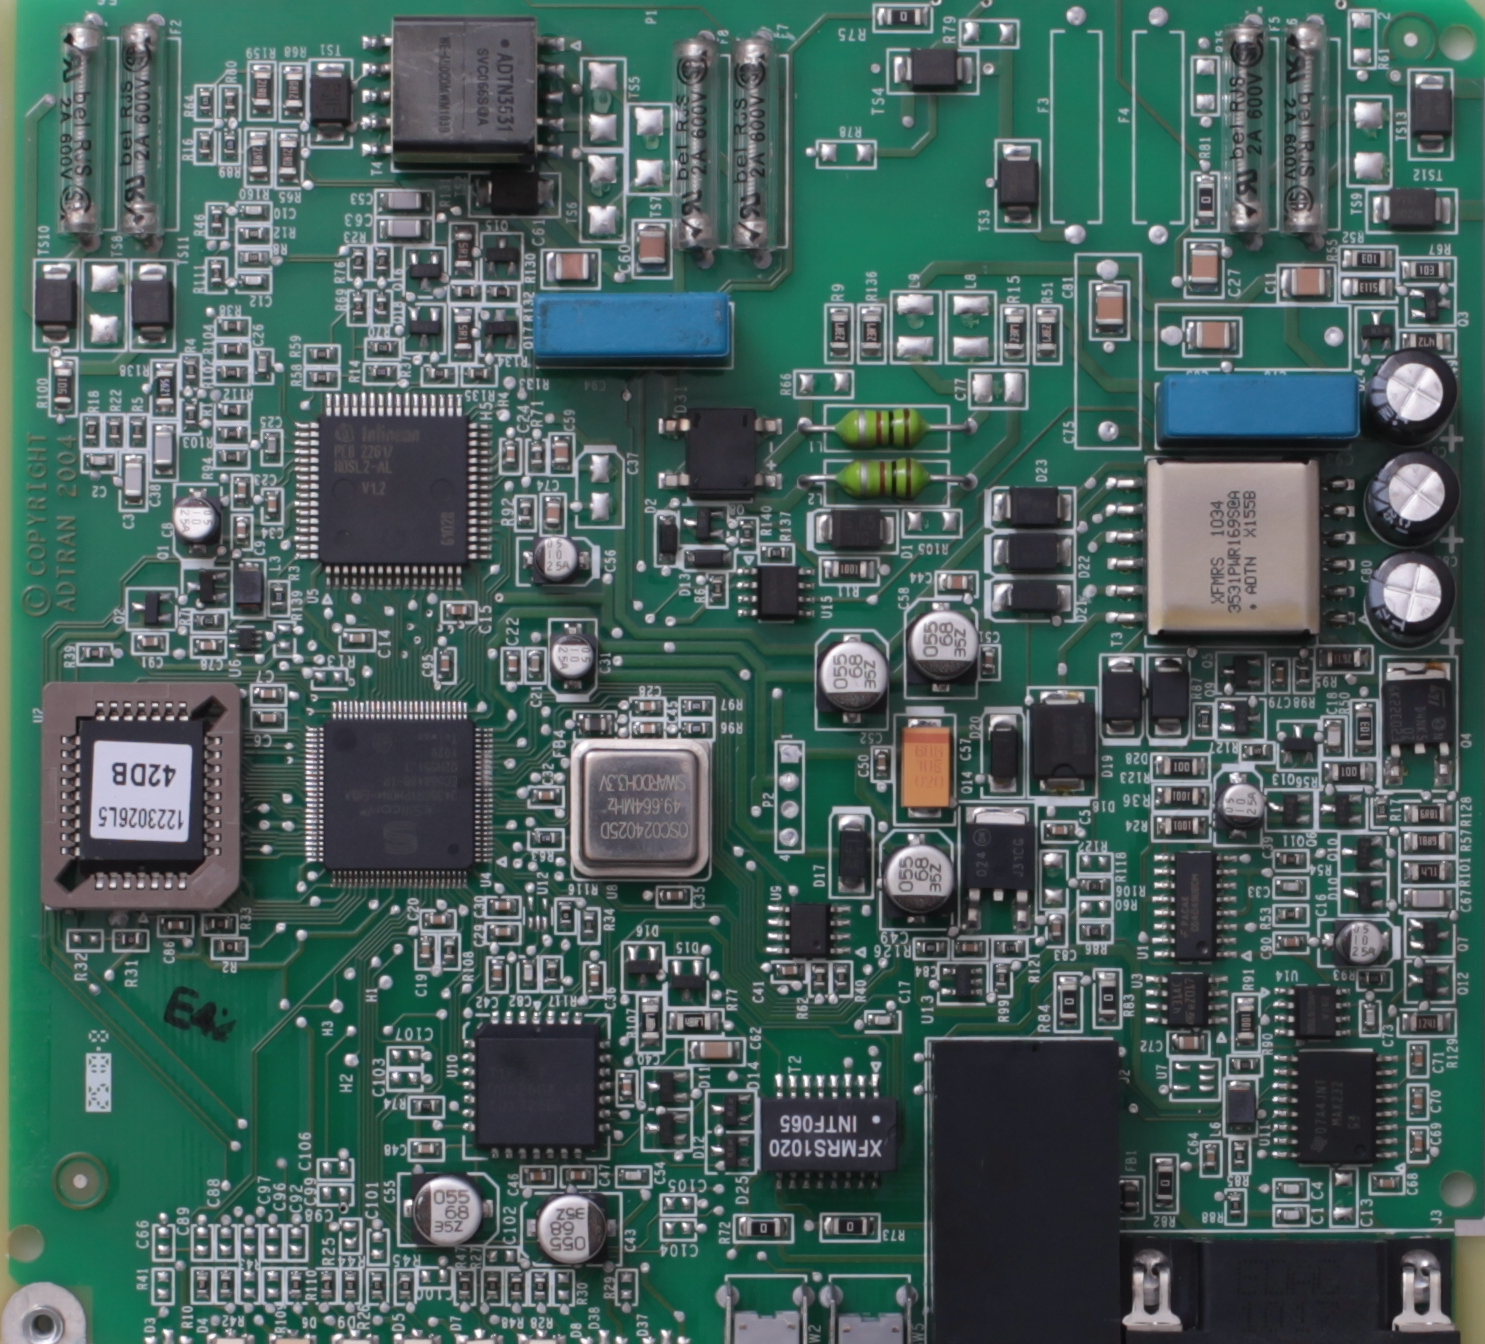capacitor0: (168, 488, 224, 545)
capacitor1: (528, 520, 583, 576)
capacitor10: (536, 1184, 608, 1264)
capacitor11: (1358, 451, 1447, 543)
capacitor12: (808, 640, 864, 696)
capacitor13: (520, 304, 736, 392)
capacitor14: (872, 840, 960, 904)
capacitor19: (896, 608, 952, 664)
capacitor2: (1336, 920, 1392, 977)
capacitor3: (536, 623, 592, 680)
capacitor4: (1216, 776, 1272, 832)
capacitor7: (1358, 345, 1469, 440)
capacitor8: (1369, 552, 1447, 633)
capacitor9: (407, 1168, 488, 1264)
